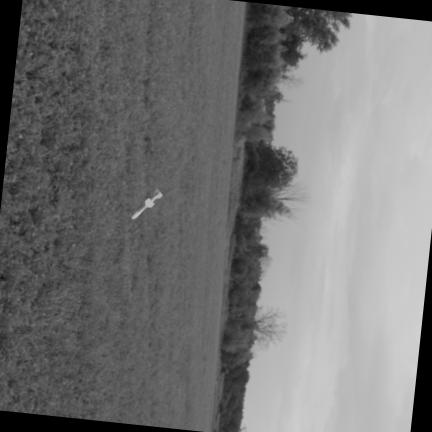Shahed: (131, 190, 162, 219)
